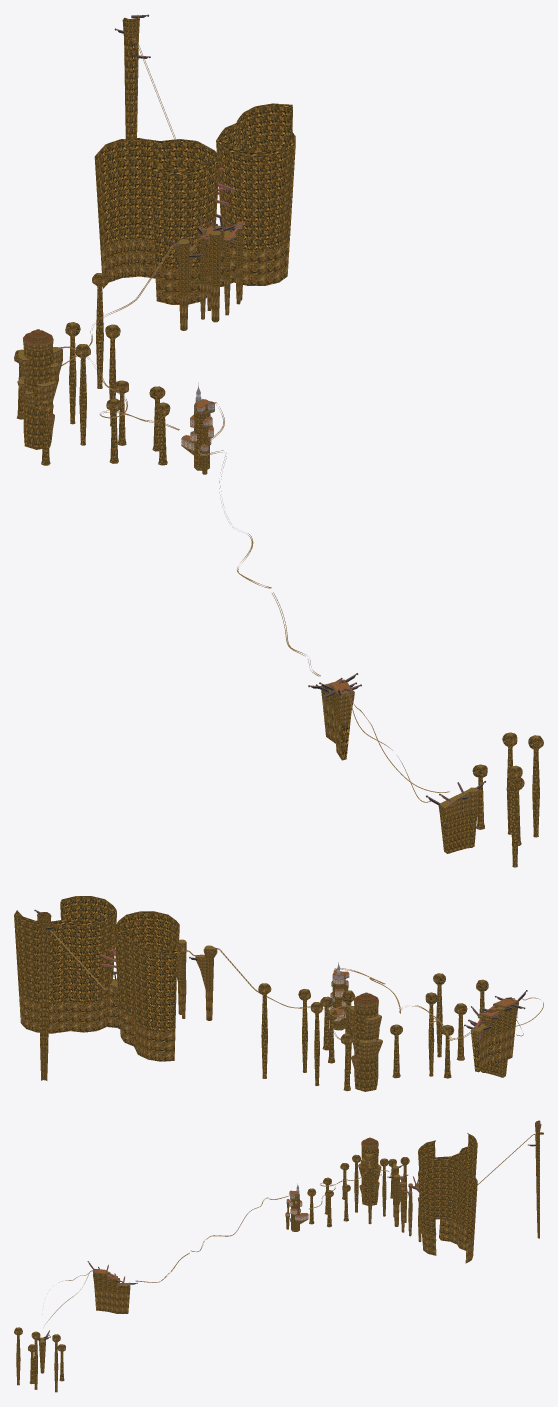
File: SkyRail.obj
The picture shows the model from 3 angles, top to bottom: view 1: azimuth 30°, elevation 25°; view 2: azimuth 150°, elevation 25°; view 3: azimuth 270°, elevation 25°; orthographic projection. The views are drawn at different scales.
Size of the model in its own units: 5165 by 6769 by 11486.
Materials: 25 (25 with a texture image).
